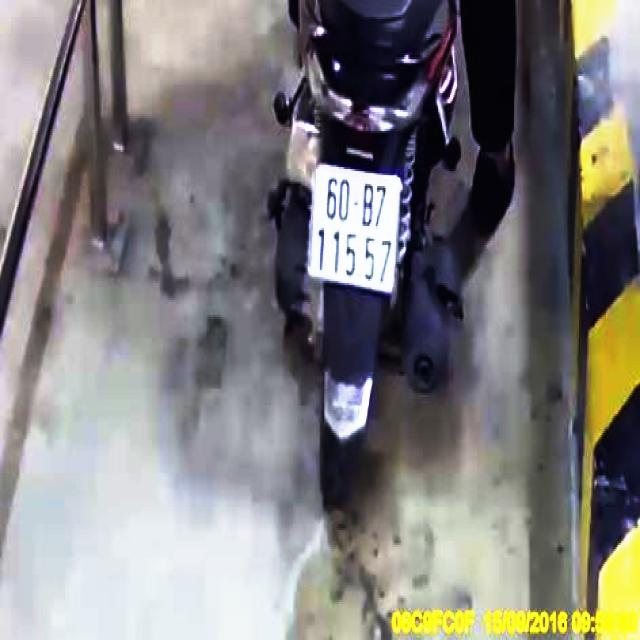license_plate: (309, 164, 401, 292)
